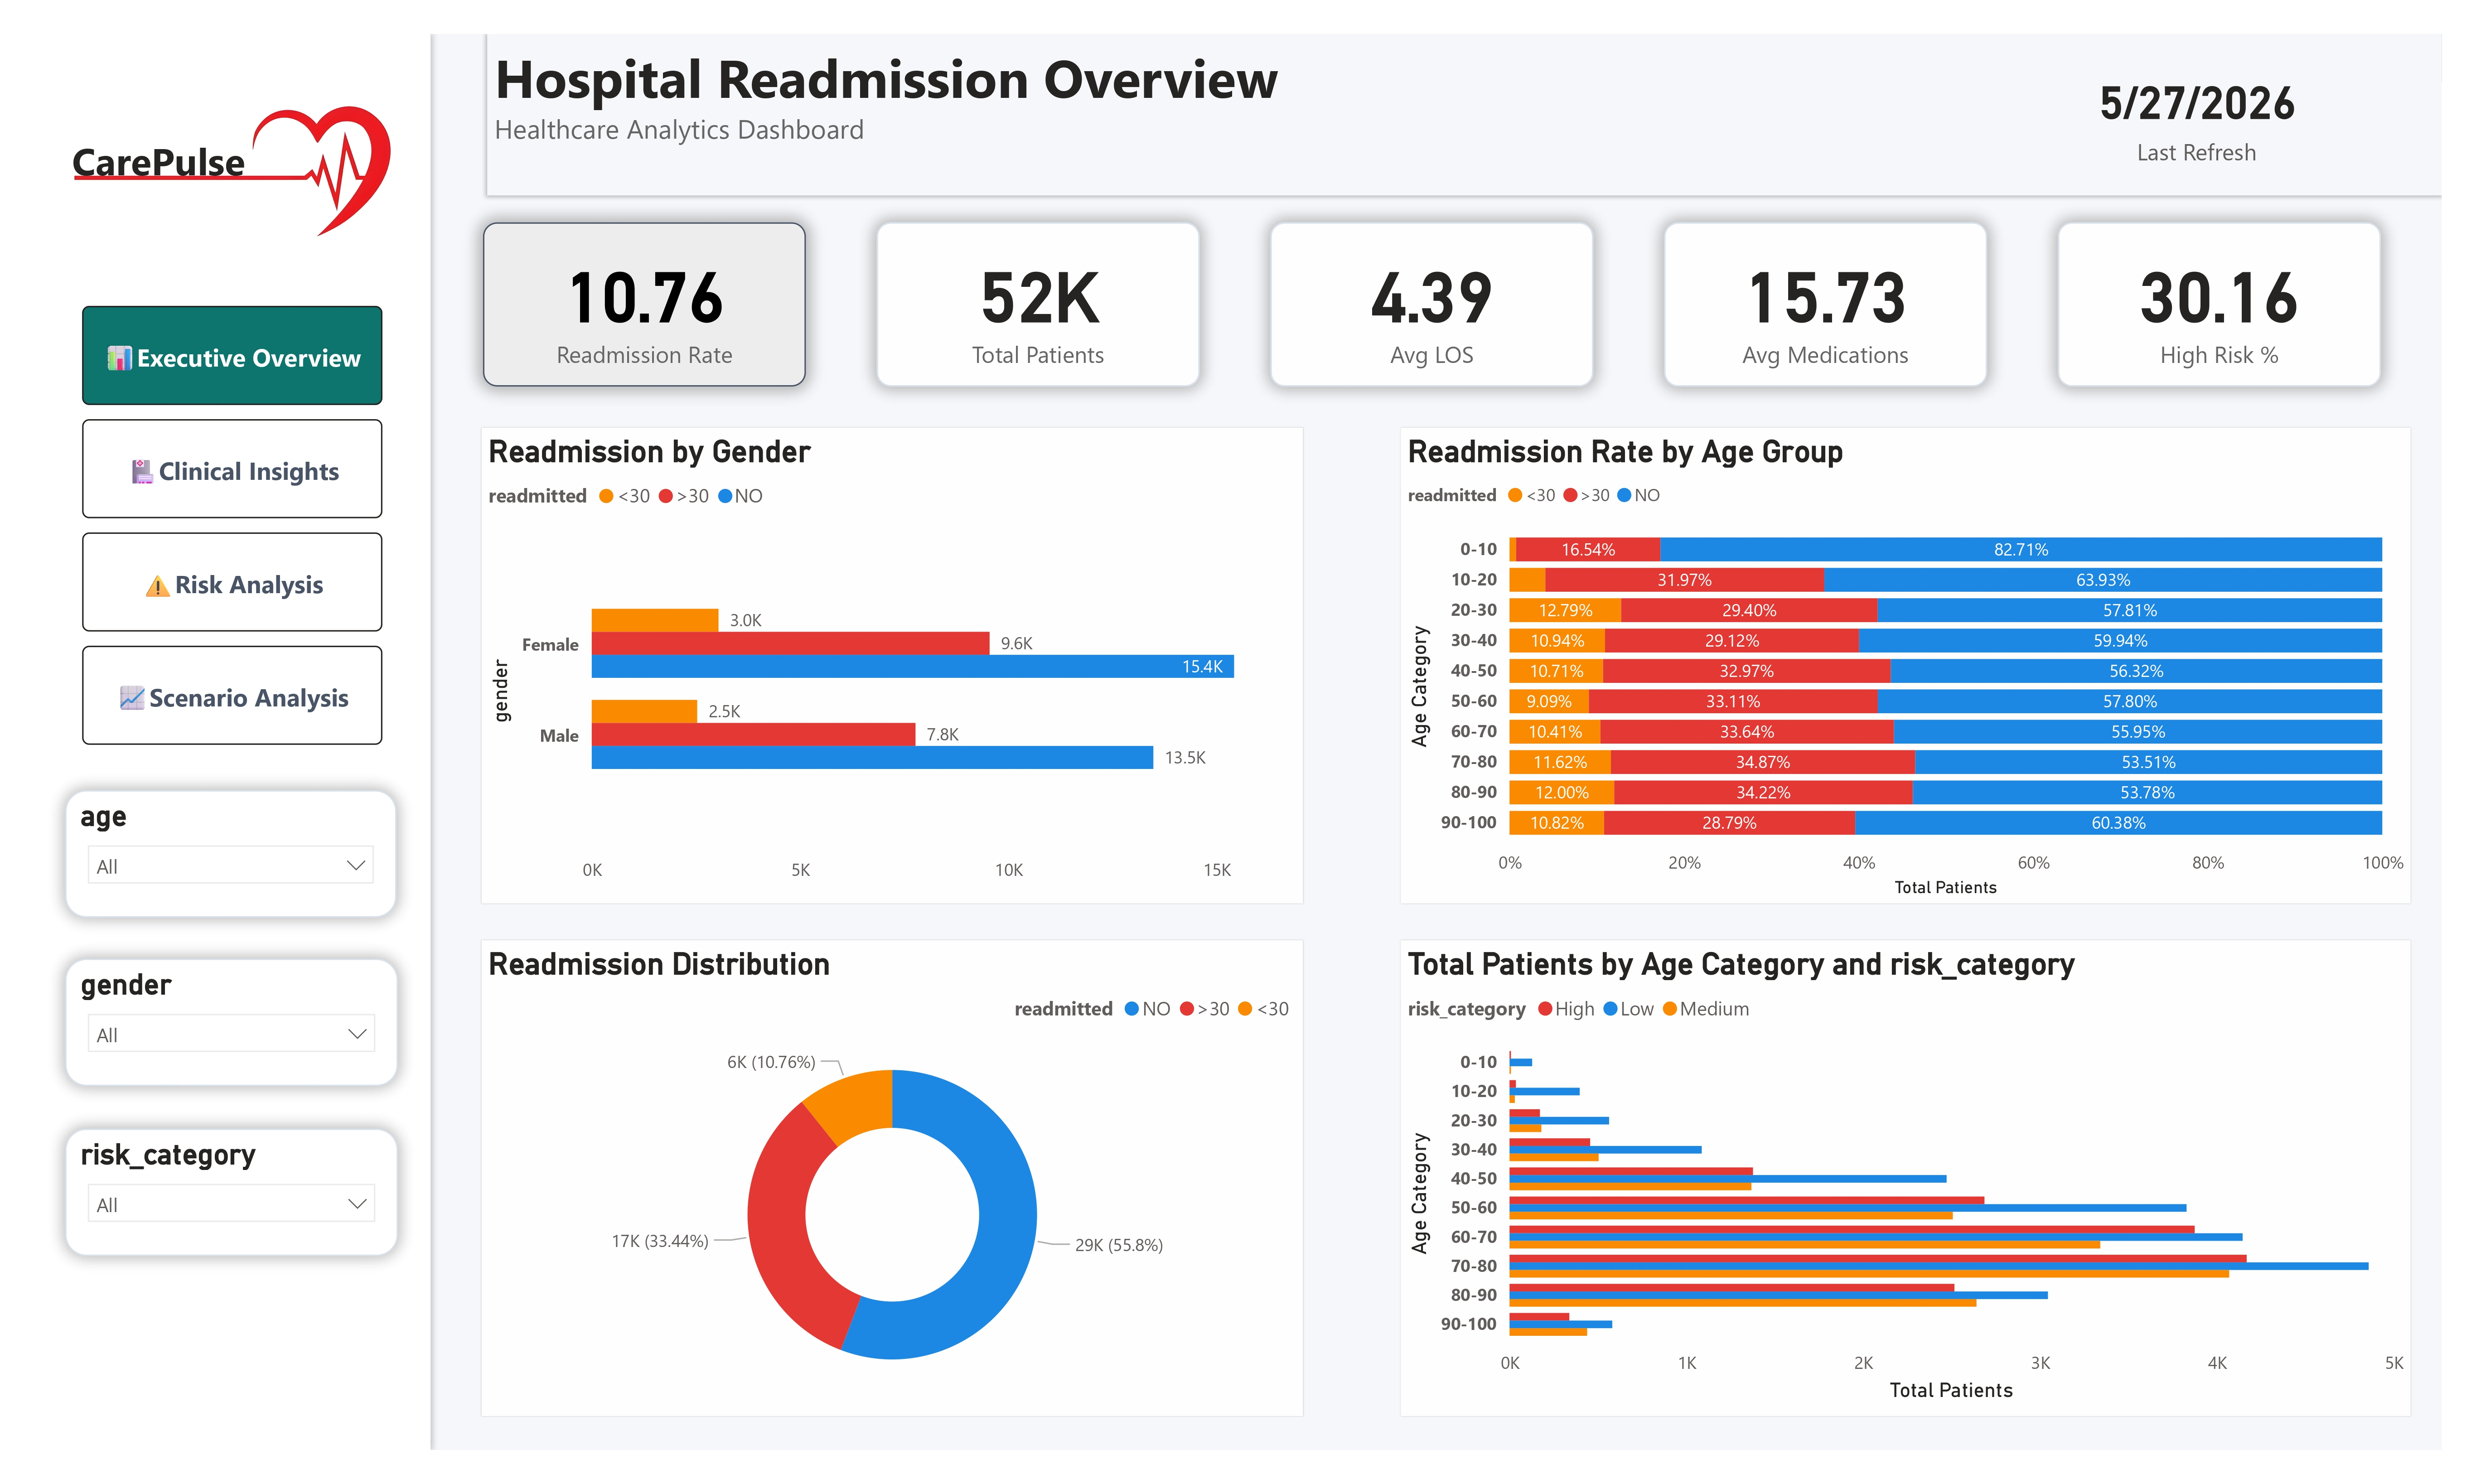

The dashboard page shown, as its layout file describes it:
{"tool":"powerbi","page":{"name":"📊Executive Overview","canvas":[1700,1000],"ordinal":0},"visuals":[{"type":"card","fields":{"Values":["featured_hospital_data.Total Patients"]},"box":[594.8,133.2,228,116],"z":0},{"type":"donutChart","title":"Readmission Distribution","fields":{"Category":["featured_hospital_data.readmitted"],"Y":["featured_hospital_data.Total Patients"]},"box":[316,624,580,352],"z":1000},{"type":"hundredPercentStackedBarChart","title":"Readmission Rate by Age Group","fields":{"Category":["Age Lookup.Age Category"],"Y":["featured_hospital_data.Total Patients"],"Series":["featured_hospital_data.readmitted"]},"box":[966,278,712,322],"z":2000},{"type":"clusteredBarChart","title":"Readmission by Gender","fields":{"Category":["featured_hospital_data.gender"],"Y":["featured_hospital_data.Total Patients"],"Series":["featured_hospital_data.readmitted"]},"box":[316,278,580,322],"z":3000},{"type":"card","fields":{"Values":["featured_hospital_data.Readmission Rate"]},"box":[316.8,133.2,228,116],"z":4000},{"type":"card","fields":{"Values":["featured_hospital_data.Avg LOS"]},"box":[872.8,133.2,228,116],"z":5000},{"type":"card","fields":{"Values":["featured_hospital_data.Avg Medications"]},"box":[1150.8,133.2,228,116],"z":6000},{"type":"card","fields":{"Values":["featured_hospital_data.High Risk %"]},"box":[1428.8,133.2,228,116],"z":7000},{"type":"clusteredBarChart","fields":{"Category":["Age Lookup.Age Category"],"Y":["featured_hospital_data.Total Patients"],"Series":["featured_hospital_data.risk_category"]},"box":[966,624,712,352],"z":8000},{"type":"textbox","box":[320,0,1380,114],"z":9000},{"type":"textbox","box":[0,0,280,1000],"z":10000},{"type":"slicer","title":"age","fields":{"Values":["featured_hospital_data.age"]},"box":[22,534,234,90],"z":11000},{"type":"slicer","title":"gender","fields":{"Values":["featured_hospital_data.gender"]},"box":[21.7,653.3,235,90],"z":12000},{"type":"slicer","title":"risk_category","fields":{"Values":["featured_hospital_data.risk_category"]},"box":[21.7,773.3,235,90],"z":13000},{"type":"image","box":[28,22,224,150],"z":14000},{"type":"pageNavigator","box":[34,192,212,312],"z":15000},{"type":"textbox","box":[22.1,66.1,163.2,56.8],"z":16000},{"type":"card","fields":{"Values":["featured_hospital_data.Last Refresh"]},"box":[1398,0,258,114],"z":18000}]}

Visuals, with their boxes on the page's 1700x1000 design canvas (x1, y1, x2, y2). These are canvas units, not pixel positions in the 2476x1484 screenshot, which may show the page scaled, cropped or inside an application window:
card - featured_hospital_data.Total Patients: l=595, t=133, r=823, b=249
"Readmission Distribution" donutChart: l=316, t=624, r=896, b=976
"Readmission Rate by Age Group" hundredPercentStackedBarChart: l=966, t=278, r=1678, b=600
"Readmission by Gender" clusteredBarChart: l=316, t=278, r=896, b=600
card - featured_hospital_data.Readmission Rate: l=317, t=133, r=545, b=249
card - featured_hospital_data.Avg LOS: l=873, t=133, r=1101, b=249
card - featured_hospital_data.Avg Medications: l=1151, t=133, r=1379, b=249
card - featured_hospital_data.High Risk %: l=1429, t=133, r=1657, b=249
clusteredBarChart - Age Lookup.Age Category x featured_hospital_data.Total Patients: l=966, t=624, r=1678, b=976
textbox: l=320, t=0, r=1700, b=114
textbox: l=0, t=0, r=280, b=1000
"age" slicer: l=22, t=534, r=256, b=624
"gender" slicer: l=22, t=653, r=257, b=743
"risk_category" slicer: l=22, t=773, r=257, b=863
image: l=28, t=22, r=252, b=172
pageNavigator: l=34, t=192, r=246, b=504
textbox: l=22, t=66, r=185, b=123
card - featured_hospital_data.Last Refresh: l=1398, t=0, r=1656, b=114
